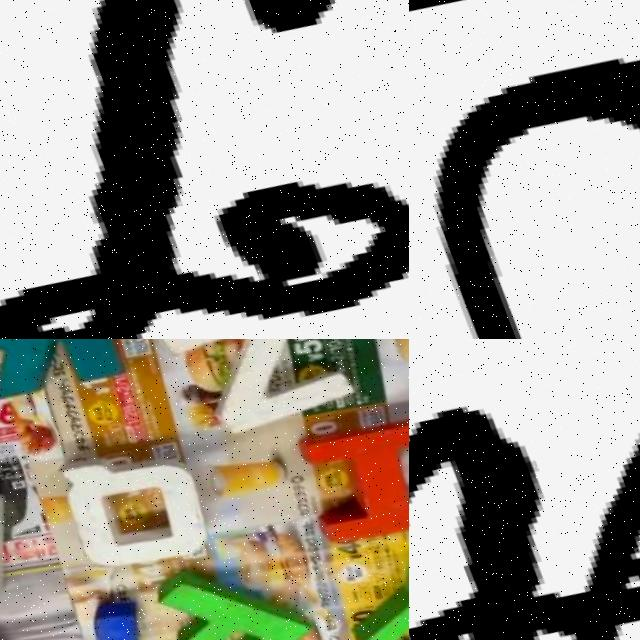A: (409, 339, 640, 640)
F: (138, 540, 312, 640)
I: (279, 379, 409, 549)
K: (0, 339, 134, 415)
Q: (39, 425, 214, 580)
T: (0, 0, 409, 339), (19, 580, 184, 640)
U: (409, 0, 640, 339)
Y: (307, 508, 409, 640)
Z: (138, 339, 359, 446)
